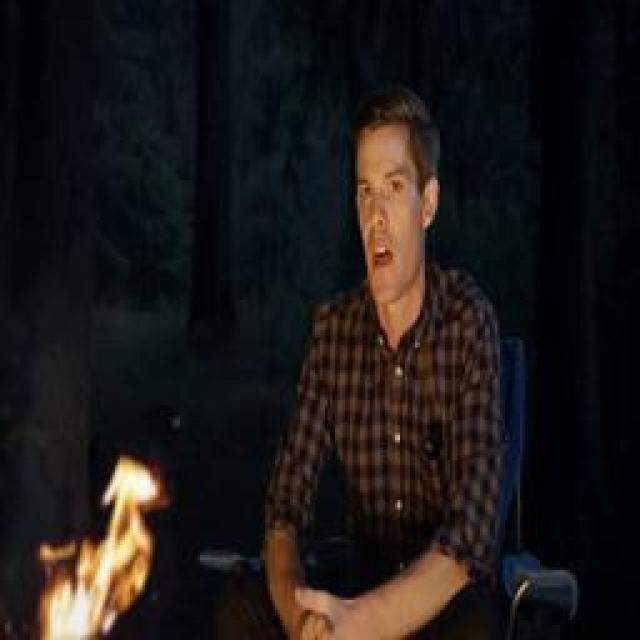Fire: (38, 455, 160, 640)
